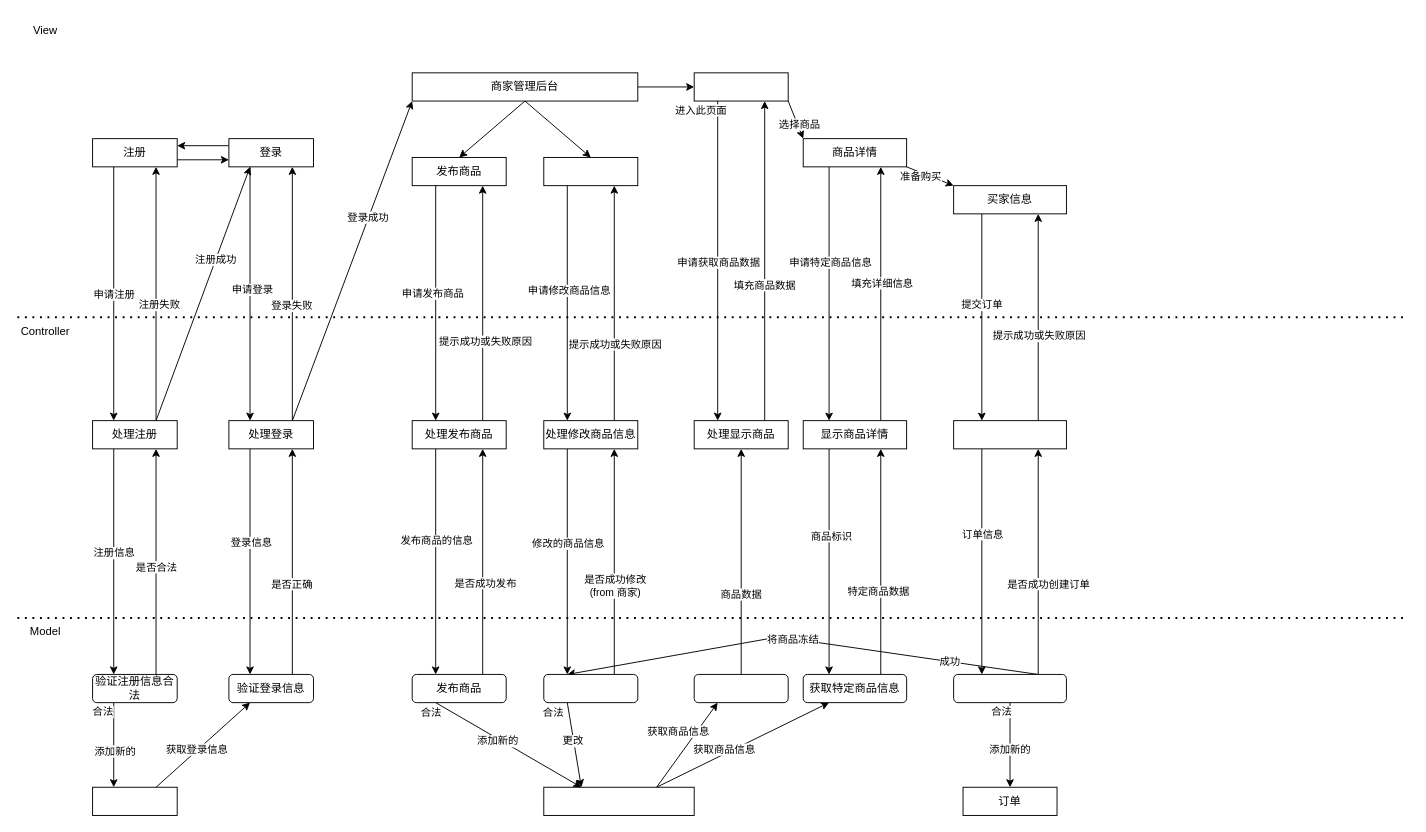
Image size: 1426x832. Some labels were removed from this diagram. Here are the shapes that lost their labels. From the top down, the centre of each, then its label:
At pixel 740 86: "商品列表".
At pixel 590 171: "编辑商品".
At pixel 1009 434: "处理购买".
At pixel 590 688: "修改商品信息".
At pixel 740 688: "获取所有商品".
At pixel 1009 688: "验证订单信息".
At pixel 134 800: "商家".
At pixel 618 800: "商品".
